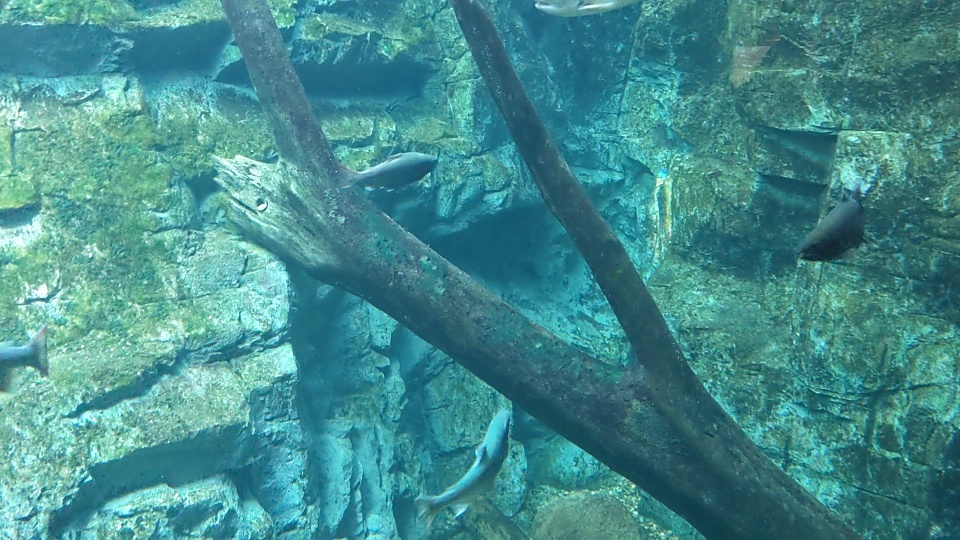Fish: (414, 406, 517, 516), (797, 188, 866, 264), (334, 146, 436, 197), (0, 324, 58, 387)
